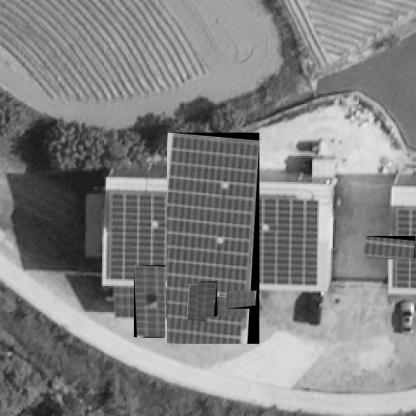solar-pv-panel: (167, 133, 259, 344), (135, 267, 165, 337), (364, 236, 415, 258), (198, 282, 216, 317), (227, 291, 256, 309)
